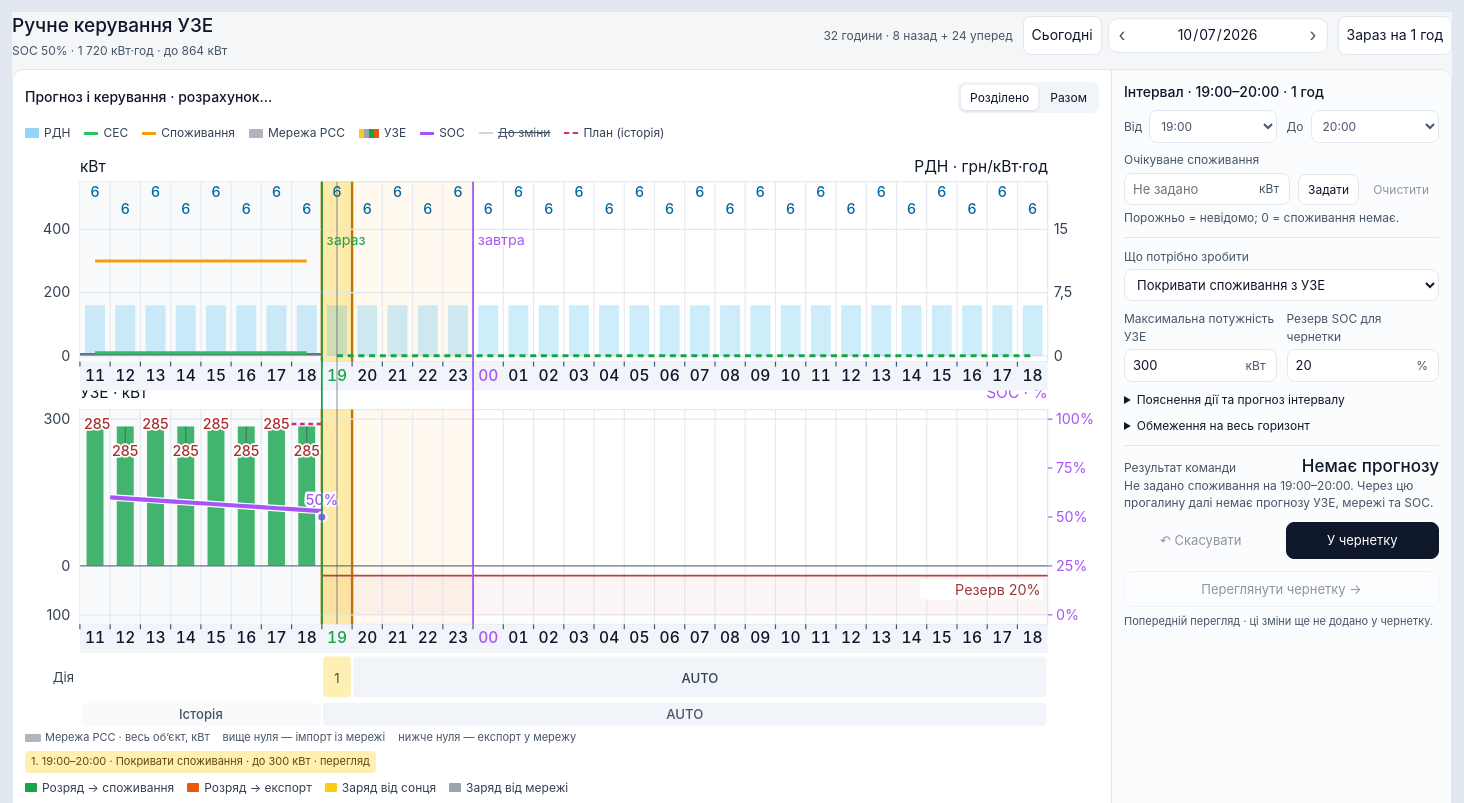
it: DispatchDesk › stages load, reviews it and confirms the draft
The width and height of the screenshot is (1464, 803).
Expected: the heading "Ручне керування УЗЕ" is shown, [12,12,227,40]
Type "200" into the number field named "Споживання для вибраних годин".
click(1188, 189); type("200")  # box [1125,174,1251,204]
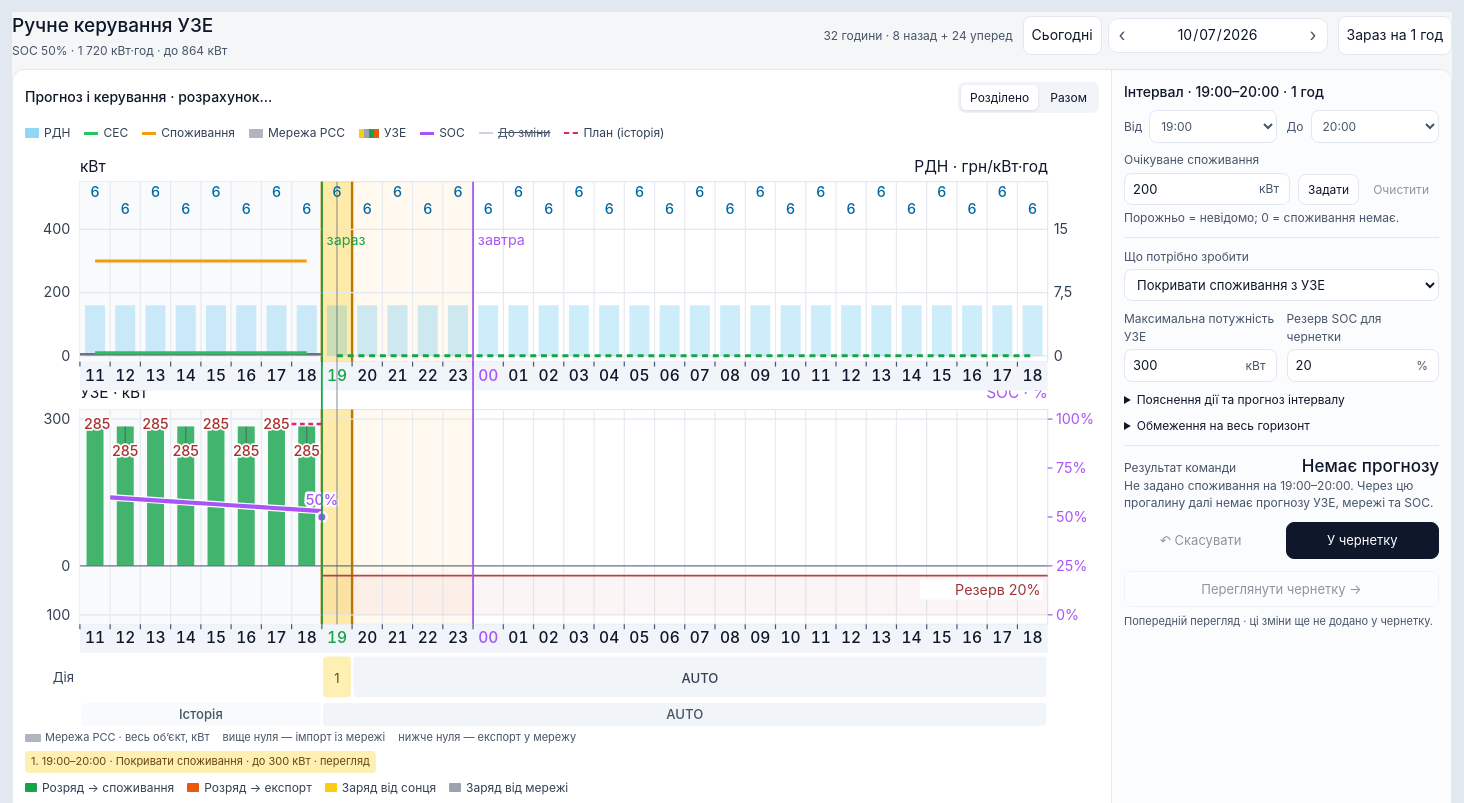
Click the button with aria-label "Задати споживання для вибраного інтервалу".
click(1329, 190)  # box [1298,174,1359,206]
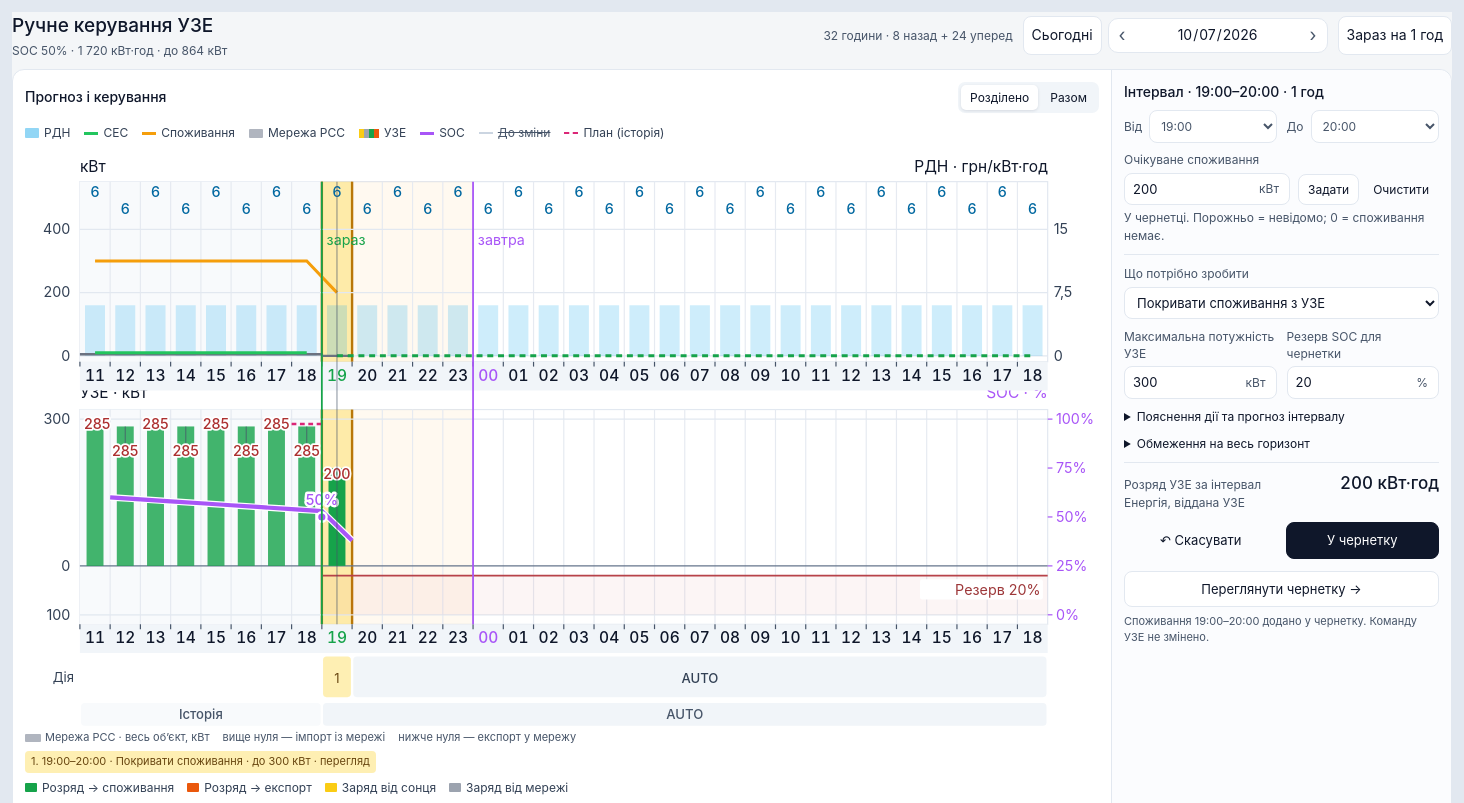
Expected: the text "Споживання 19:00–20:00 додано у чернетку" is shown, [1124,614,1417,644]
Expected: the button "Переглянути чернетку →" is enabled
Click the button "Переглянути чернетку →".
click(1282, 589)  # box [1124,570,1439,607]
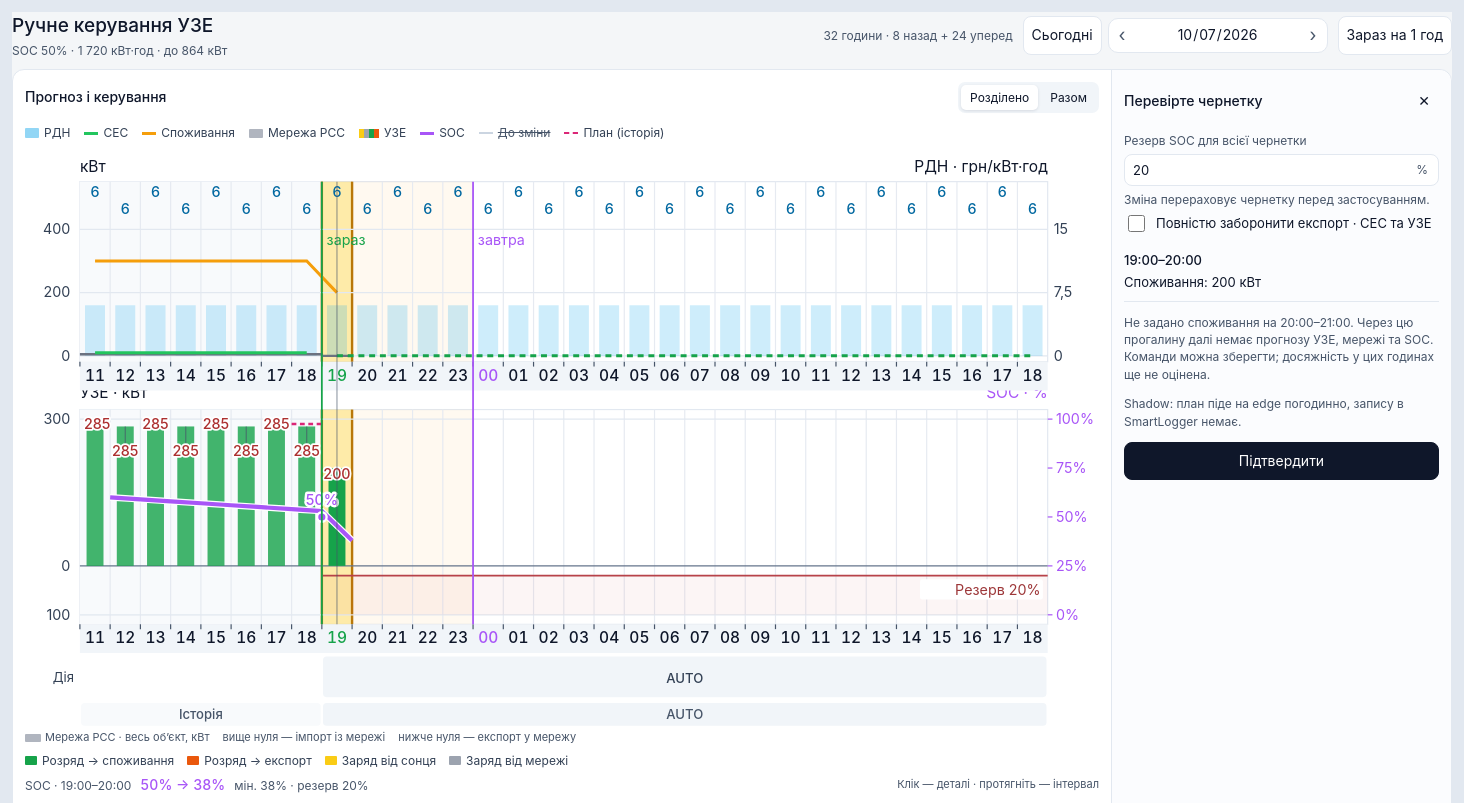
Expected: the text "Споживання: 200 кВт" is shown, [1124,274,1261,290]
Click the button "Підтвердити".
click(1282, 461)  # box [1124,442,1439,480]
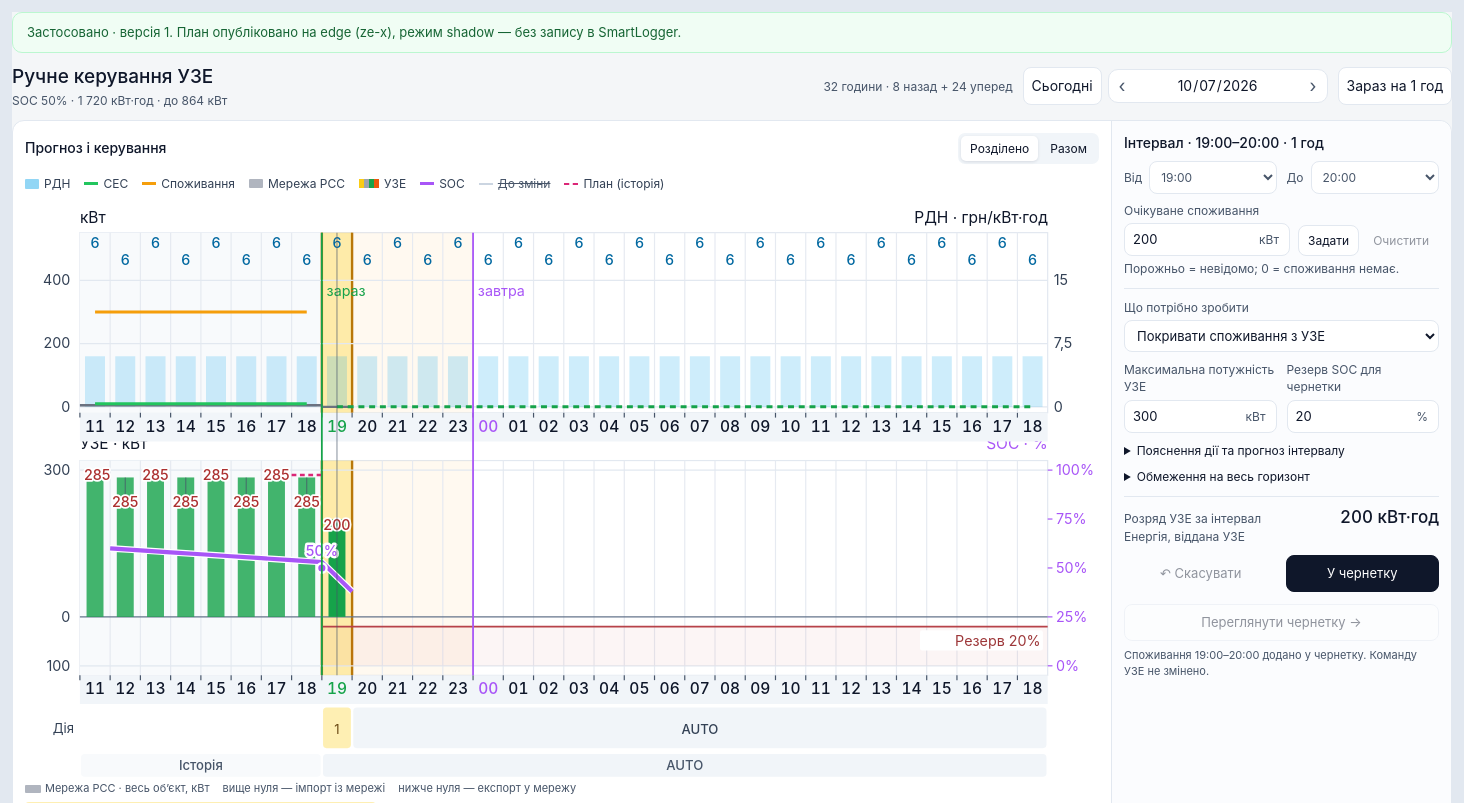
Expected: the text "Застосовано · версія 1" is shown, [27,24,681,40]
